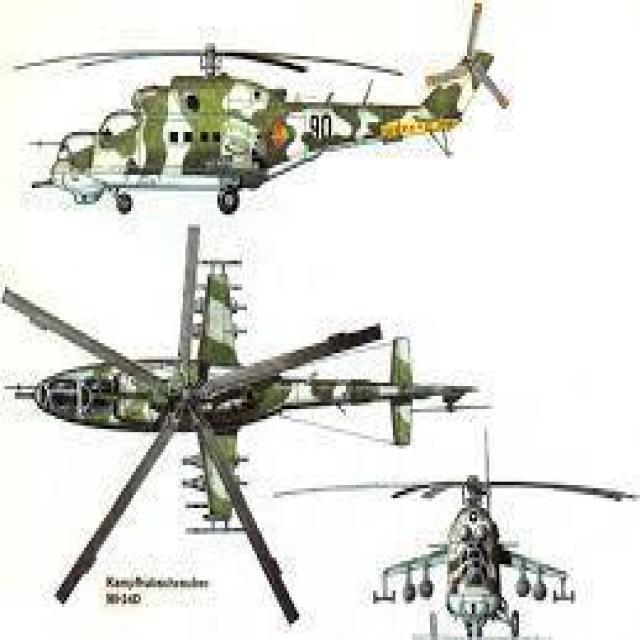MIL_MBT: (36, 246, 389, 559), (44, 31, 509, 206), (400, 462, 549, 633)
